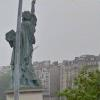Statue: (5, 3, 47, 91)
